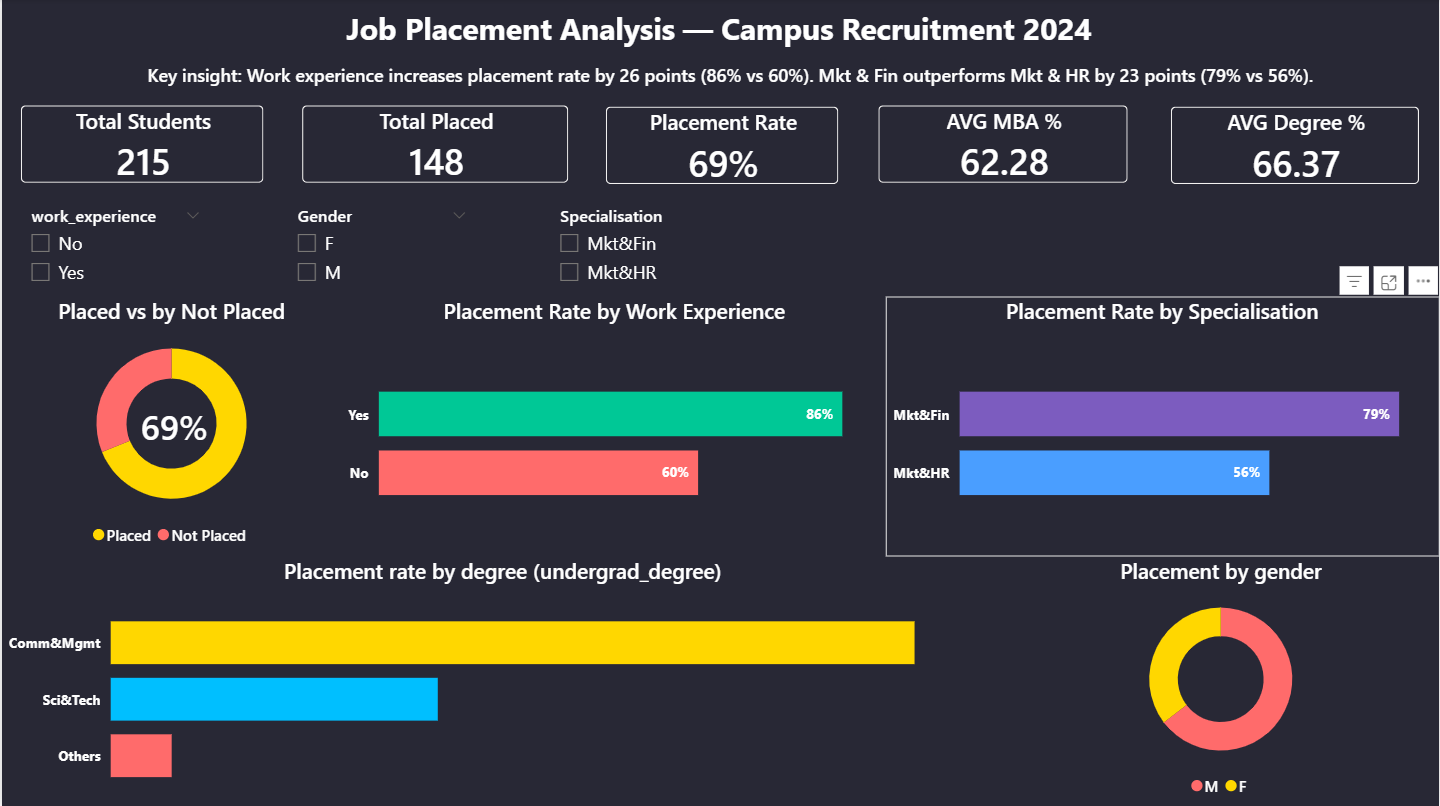

This screenshot's page, from the dashboard's own definition file:
{"tool":"powerbi","page":{"name":"Page 1","canvas":[1280,720],"ordinal":0},"visuals":[{"type":"donutChart","fields":{"Category":["clean_placements.status"],"Y":["CountNonNull(clean_placements.status)"]},"box":[0,265,302.3,231.4],"z":0},{"type":"cardVisual","fields":{"Data":["CountNonNull(clean_placements.gender)"]},"box":[0,78.4,250,103.2],"z":1000},{"type":"cardVisual","fields":{"Data":["Sum(clean_placements.placed_binary)"]},"box":[250,78.4,271.2,103.2],"z":2000},{"type":"cardVisual","title":"Placement Rate","fields":{"Data":["Avg(clean_placements.placed_binary)"]},"box":[521.5,78.5,241.7,103.1],"z":3000},{"type":"cardVisual","fields":{"Data":["Avg(clean_placements.mba_percent)"]},"box":[763.8,78.4,256.3,103.2],"z":4000},{"type":"textbox","box":[301.8,3.7,698.2,47.9],"z":5000},{"type":"card","fields":{"Values":["Avg(clean_placements.placed_binary)"]},"box":[109.5,344.6,89.6,72.1],"z":6000},{"type":"clusteredBarChart","title":"Placement Rate by Work Experience","fields":{"Category":["clean_placements.work_experience"],"Y":["Avg(clean_placements.placed_binary)"]},"box":[302.3,265,485.1,231.4],"z":7000},{"type":"clusteredBarChart","title":"Placement Rate by Specialisation","fields":{"Category":["clean_placements.specialisation"],"Y":["Avg(clean_placements.placed_binary)"]},"box":[787.4,265,492.6,231.4],"z":8000},{"type":"slicer","fields":{"Values":["clean_placements.work_experience"]},"box":[13.7,177.9,175.4,87.1],"z":9000},{"type":"slicer","fields":{"Values":["clean_placements.gender"]},"box":[250,177.9,175.4,87.1],"z":10000},{"type":"slicer","fields":{"Values":["clean_placements.specialisation"]},"box":[483.9,177.9,175.4,87.1],"z":11000},{"type":"clusteredBarChart","title":" Placement rate by degree (undergrad_degree)","fields":{"Category":["clean_placements.undergrad_degree"],"Y":["CountNonNull(clean_placements.status)"]},"box":[0,496.3,891.9,223.9],"z":12000},{"type":"donutChart","title":"Placement by gender","fields":{"Y":["CountNonNull(clean_placements.gender)"],"Category":["clean_placements.gender"]},"box":[892,496.9,387.7,223.3],"z":13000},{"type":"cardVisual","fields":{"Data":["Avg(clean_placements.degree_percentage)"]},"box":[1024.5,78.5,255.2,103.1],"z":15000},{"type":"textbox","box":[125.2,51.5,1066.3,52.8],"z":15001}]}

Visuals, with their boxes in screenshot pixels (x1, y1, x2, y2), scaled from the page's 1280x720 canvas onto the 1440x806 screenshot:
donutChart - clean_placements.status x CountNonNull(clean_placements.status): [left=0, top=297, right=340, bottom=556]
cardVisual - CountNonNull(clean_placements.gender): [left=0, top=88, right=281, bottom=203]
cardVisual - Sum(clean_placements.placed_binary): [left=281, top=88, right=586, bottom=203]
"Placement Rate" cardVisual: [left=587, top=88, right=859, bottom=203]
cardVisual - Avg(clean_placements.mba_percent): [left=859, top=88, right=1148, bottom=203]
textbox: [left=340, top=4, right=1125, bottom=58]
card - Avg(clean_placements.placed_binary): [left=123, top=386, right=224, bottom=466]
"Placement Rate by Work Experience" clusteredBarChart: [left=340, top=297, right=886, bottom=556]
"Placement Rate by Specialisation" clusteredBarChart: [left=886, top=297, right=1439, bottom=556]
slicer - clean_placements.work_experience: [left=15, top=199, right=213, bottom=297]
slicer - clean_placements.gender: [left=281, top=199, right=479, bottom=297]
slicer - clean_placements.specialisation: [left=544, top=199, right=742, bottom=297]
" Placement rate by degree (undergrad_degree)" clusteredBarChart: [left=0, top=556, right=1003, bottom=805]
"Placement by gender" donutChart: [left=1004, top=556, right=1439, bottom=805]
cardVisual - Avg(clean_placements.degree_percentage): [left=1153, top=88, right=1439, bottom=203]
textbox: [left=141, top=58, right=1340, bottom=117]
